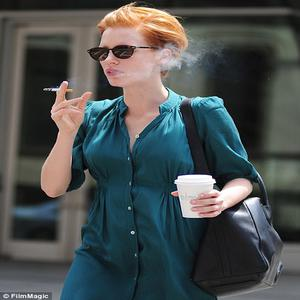cigarette: (42, 88, 75, 94)
